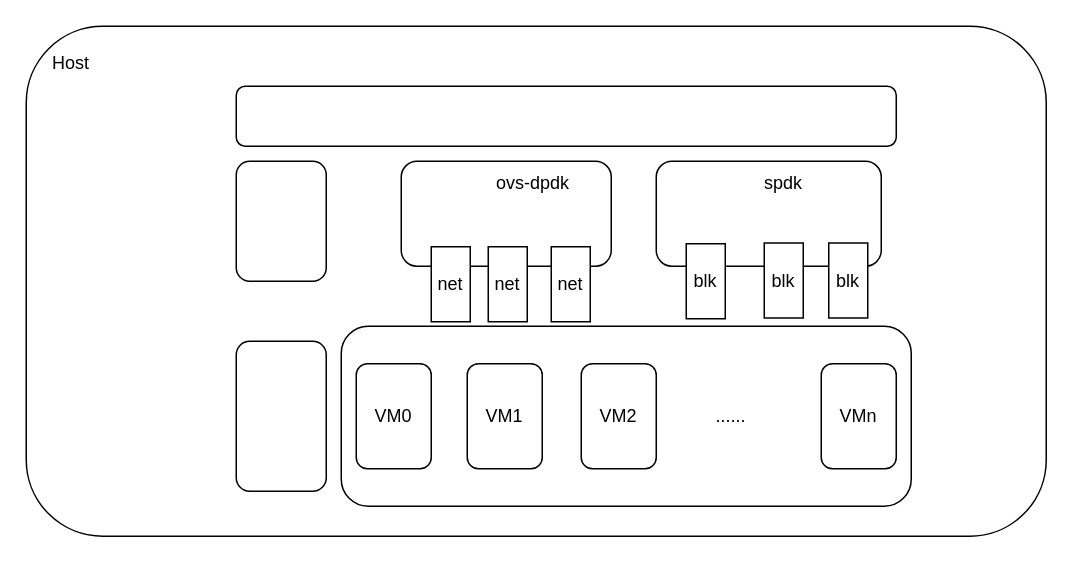
The diagram is 1073 pixels wide and 563 high, and some of its shapes have lost their labels. Each missing label, with the box of its shape:
libvirtd: (235, 160, 326, 281)
openstack: (235, 85, 896, 146)
qemu: (235, 340, 326, 491)
